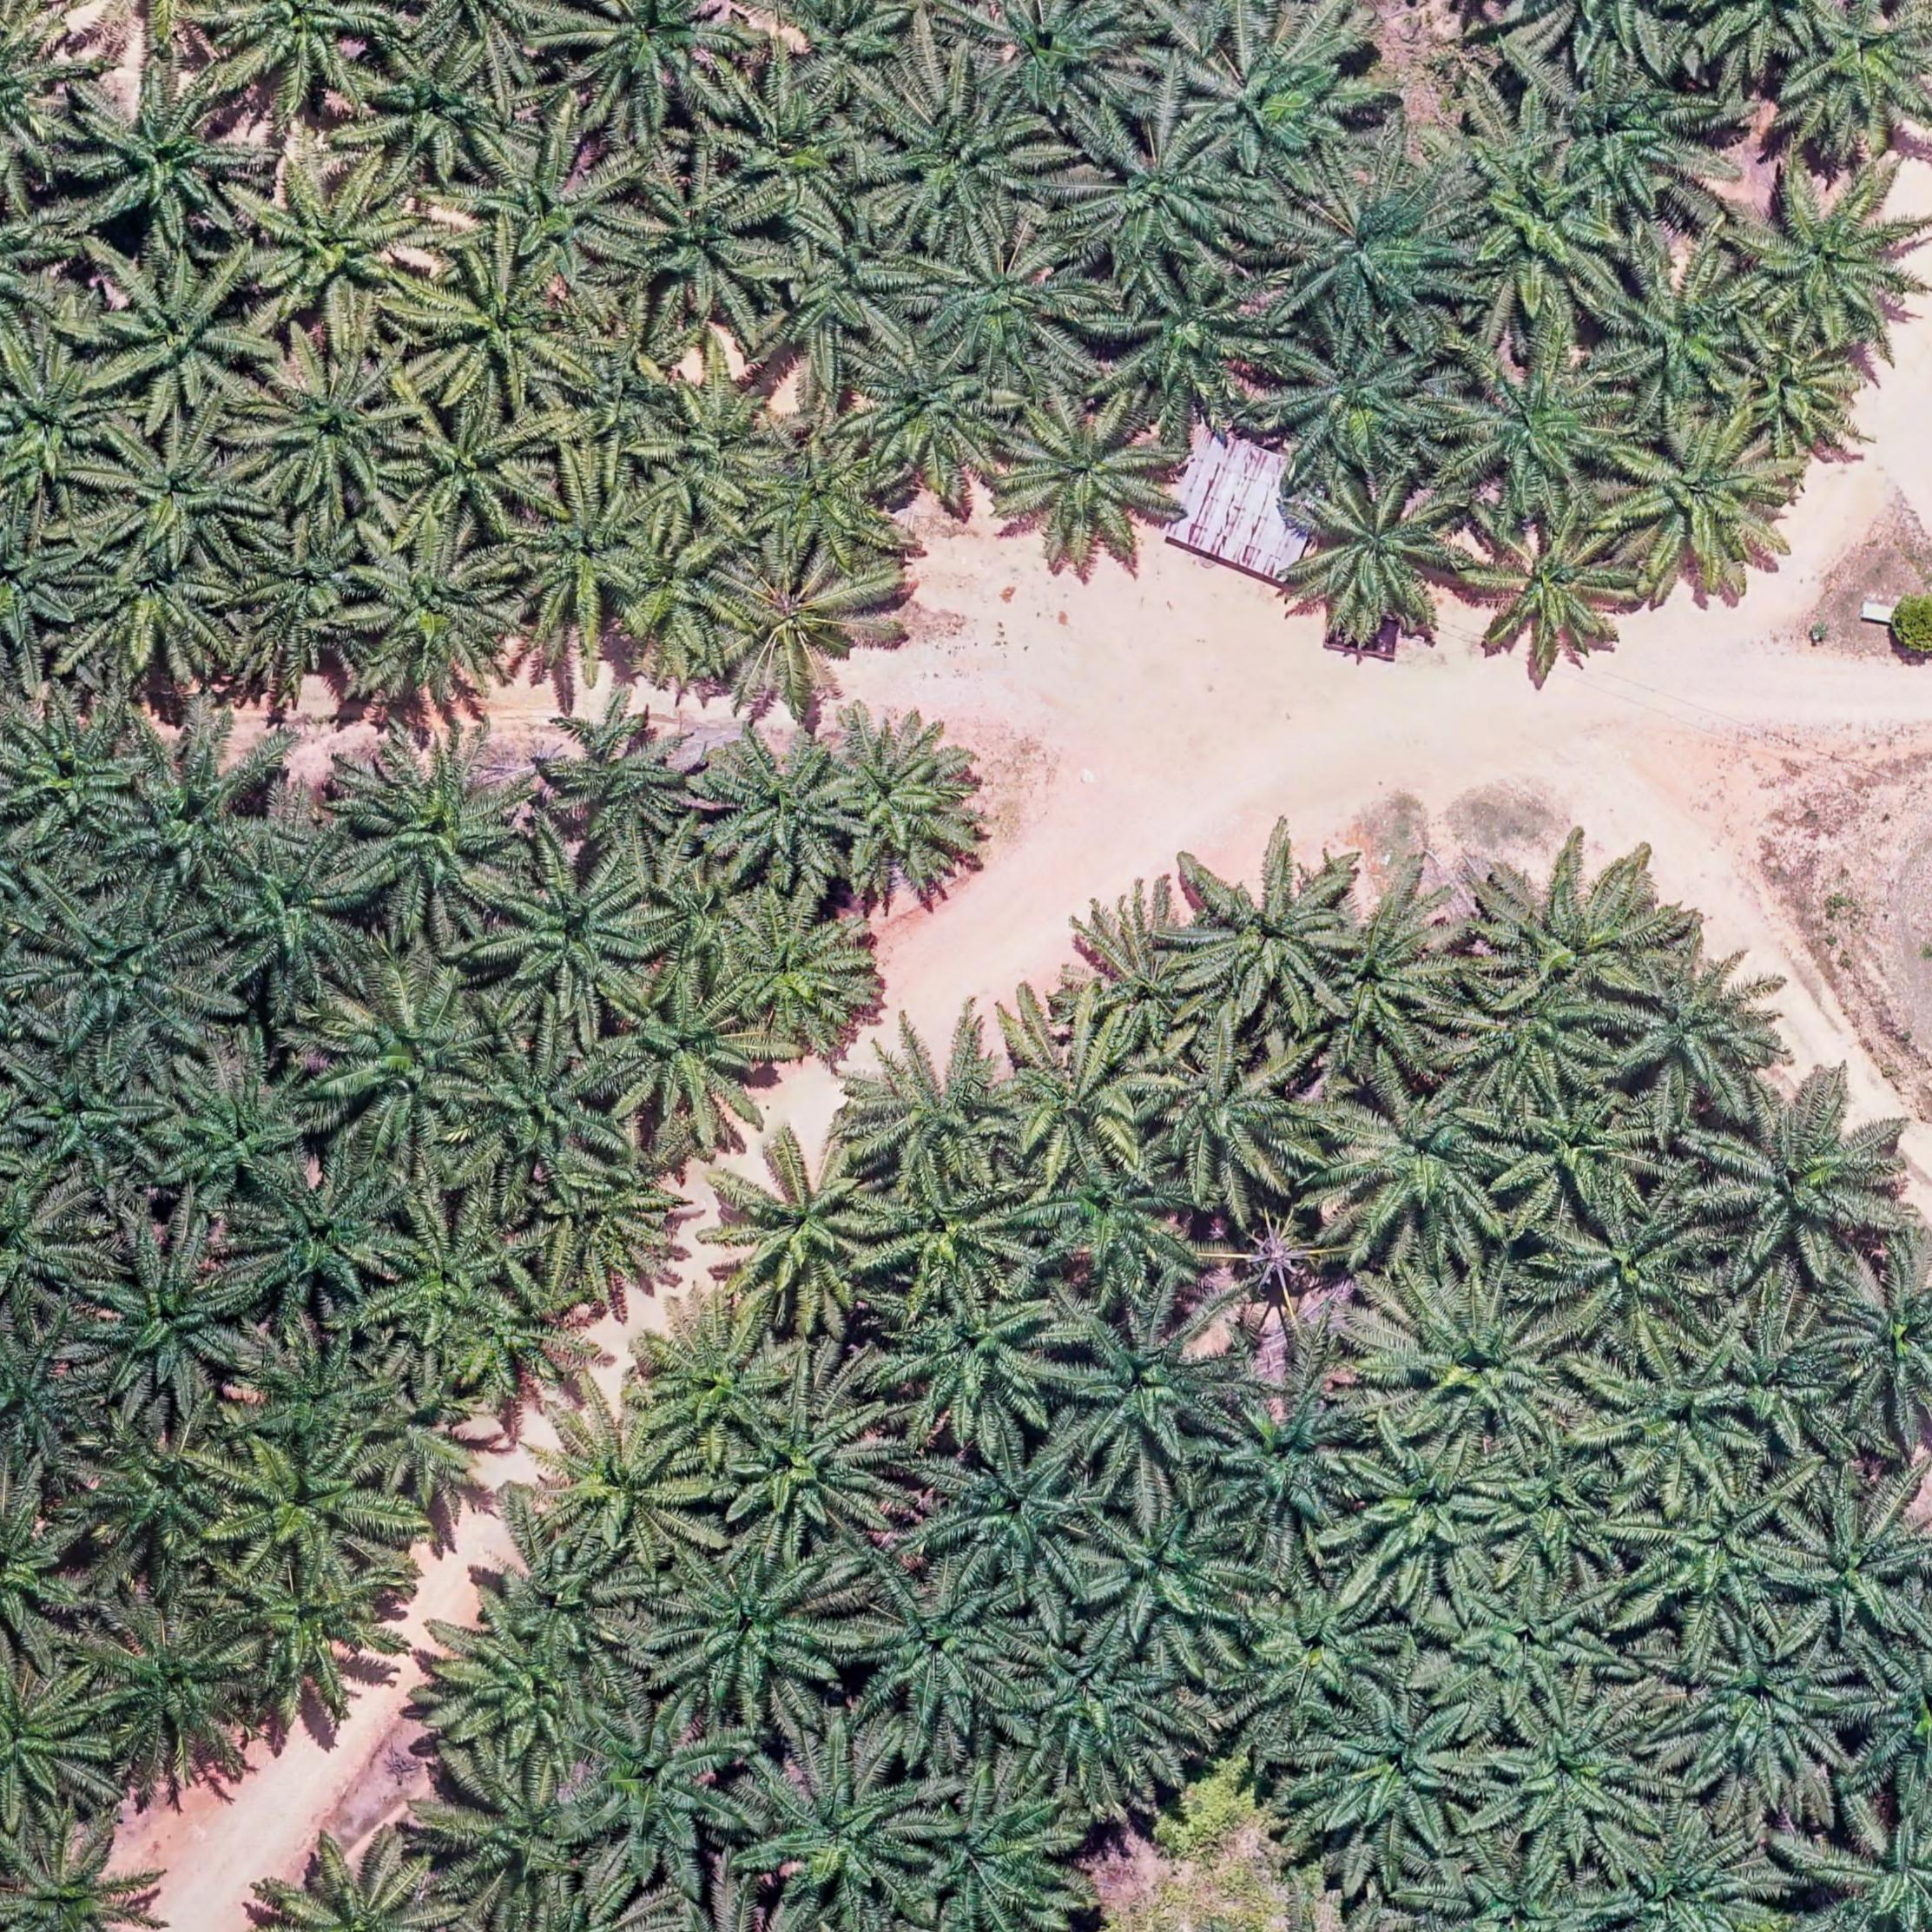palmtree: (1702, 1085, 1905, 1288), (1438, 103, 1621, 322), (1369, 1277, 1582, 1461), (1663, 1617, 1868, 1803), (1322, 1074, 1520, 1265), (237, 154, 439, 341), (62, 60, 257, 249), (343, 732, 536, 922), (1463, 851, 1679, 1019), (653, 1541, 855, 1720), (1732, 165, 1925, 350), (717, 1129, 902, 1320), (1277, 161, 1477, 338), (1608, 410, 1798, 593), (428, 1606, 632, 1775), (1005, 1617, 1196, 1794), (1309, 878, 1479, 1076), (1440, 345, 1633, 518), (851, 1559, 1035, 1737), (1058, 1300, 1244, 1477), (750, 1744, 939, 1918), (568, 1702, 752, 1879), (867, 74, 1054, 248), (460, 124, 648, 297), (1300, 1691, 1490, 1863), (35, 885, 226, 1053), (320, 975, 499, 1154), (1628, 1470, 1812, 1644), (720, 1385, 906, 1557), (1267, 324, 1458, 490), (223, 1550, 414, 1716), (876, 1281, 1070, 1444), (1182, 853, 1361, 1030), (1539, 1185, 1725, 1355), (1069, 117, 1254, 287), (1185, 1177, 1366, 1350), (97, 249, 280, 421), (614, 157, 796, 329), (1223, 1564, 1408, 1732), (1182, 19, 1371, 184), (1136, 1028, 1320, 1196), (80, 1231, 253, 1408), (483, 853, 660, 1026), (1488, 1693, 1663, 1867), (1295, 471, 1476, 639), (764, 205, 939, 377), (244, 345, 421, 515), (1596, 248, 1775, 416), (435, 1753, 617, 1916), (416, 249, 593, 416), (1606, 954, 1783, 1120), (819, 715, 984, 893), (1591, 1339, 1769, 1504), (932, 1431, 1113, 1594), (534, 1410, 715, 1573), (350, 538, 524, 706), (497, 471, 662, 648), (1102, 264, 1279, 426), (1435, 1566, 1619, 1721), (58, 531, 246, 683), (1000, 393, 1173, 557), (90, 1610, 267, 1771), (708, 552, 885, 713), (904, 1769, 1085, 1927), (1339, 1431, 1509, 1598), (1548, 60, 1718, 226), (600, 975, 771, 1139), (1085, 1497, 1260, 1656), (1468, 506, 1645, 663), (851, 1031, 1030, 1187), (1021, 1145, 1200, 1300), (993, 1017, 1164, 1178), (219, 1433, 402, 1583), (552, 0, 754, 134), (697, 732, 862, 897), (913, 232, 1093, 380), (543, 692, 709, 853), (237, 1162, 407, 1320), (96, 423, 271, 575), (76, 1415, 242, 1575), (230, 506, 386, 674), (1445, 962, 1619, 1113), (216, 830, 379, 989), (1210, 1384, 1376, 1539), (856, 340, 1023, 495), (156, 1060, 324, 1214), (1477, 1424, 1638, 1583), (548, 1120, 701, 1288), (1775, 1490, 1932, 1651), (373, 1196, 531, 1355), (464, 1033, 628, 1185), (724, 67, 879, 226), (117, 747, 278, 901), (646, 1304, 803, 1460), (359, 37, 515, 189), (1773, 0, 1932, 149), (1583, 1817, 1789, 1932), (865, 1164, 1031, 1306), (642, 368, 794, 520), (389, 398, 550, 540), (550, 315, 702, 464), (971, 0, 1148, 127), (1500, 1086, 1661, 1226), (0, 343, 131, 511), (747, 437, 906, 575), (725, 902, 874, 1046), (453, 1272, 605, 1408), (212, 0, 400, 110), (5, 701, 150, 840), (364, 1371, 504, 1516), (18, 1053, 173, 1180), (609, 522, 747, 663), (1826, 1254, 1932, 1437), (1730, 322, 1868, 456), (0, 1656, 111, 1822), (255, 1844, 458, 1932), (0, 179, 85, 382), (504, 1537, 639, 1665), (1079, 916, 1214, 1042), (251, 1330, 393, 1449), (0, 5, 92, 188), (0, 1322, 104, 1481), (1840, 1628, 1932, 1799), (780, 0, 924, 110), (0, 1828, 150, 1932), (1817, 1801, 1932, 1932), (1449, 108, 1568, 232), (393, 0, 589, 74), (639, 862, 761, 978), (1693, 0, 1845, 73), (1553, 0, 1698, 67)
